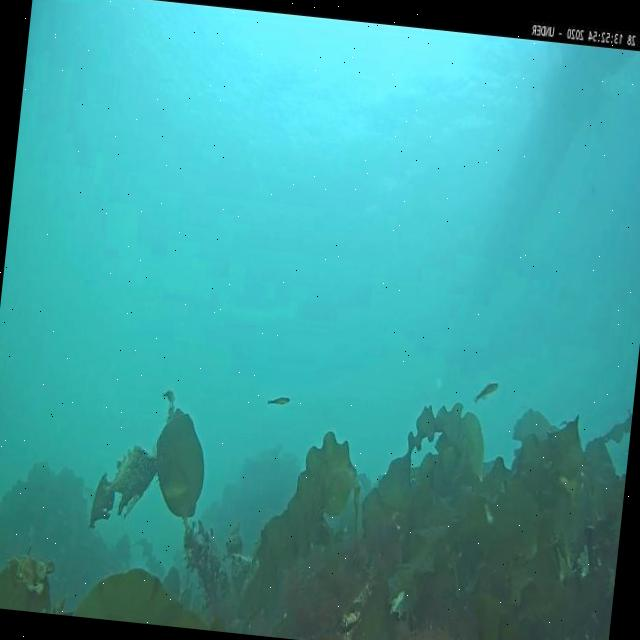fish: (472, 378, 500, 406), (268, 394, 289, 406)
